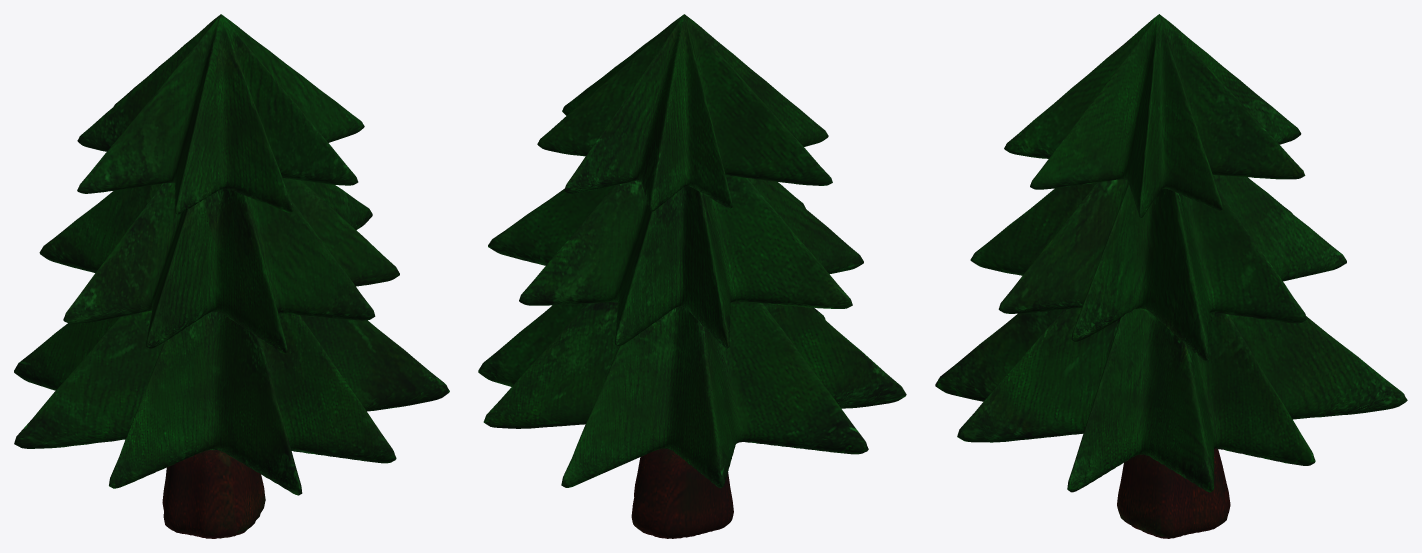
The model's file is kuusi2.fbx.
3 views of the same model, side by side, from view 1: azimuth 30°, elevation 25°; view 2: azimuth 150°, elevation 25°; view 3: azimuth 270°, elevation 25° (orthographic).
Parts seen in each view (by area): view 1: Cone.002; view 2: Cone.002; view 3: Cone.002.
Part boxes in pixels (<box>): Cone.002: <box>14,14,449,538</box>; Cone.002: <box>478,14,906,538</box>; Cone.002: <box>935,14,1407,538</box>.
Size of the model in its own units: 356 by 462 by 384.
Materials: 2 (2 with a texture image).
